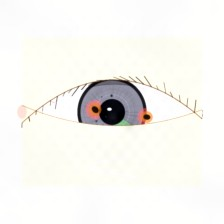foreign_body_visible: (76, 94, 115, 125)
